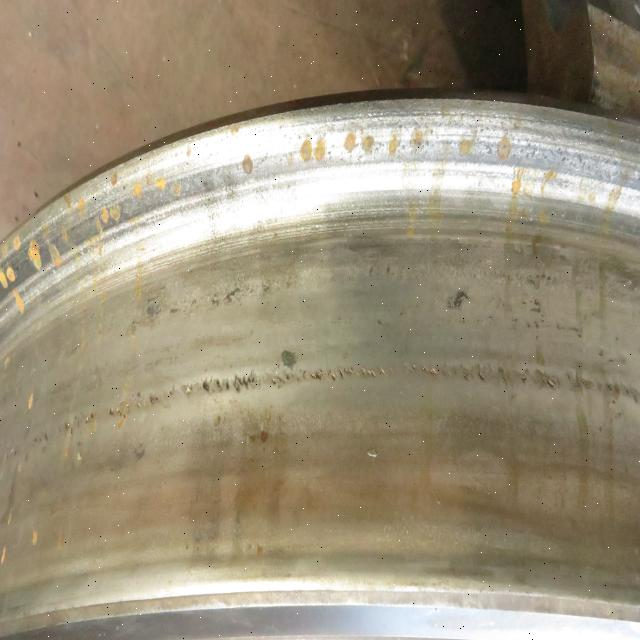Peeling: (271, 367, 390, 393), (408, 370, 488, 390), (201, 372, 263, 395), (114, 397, 164, 421), (522, 369, 558, 394), (66, 416, 98, 438)
